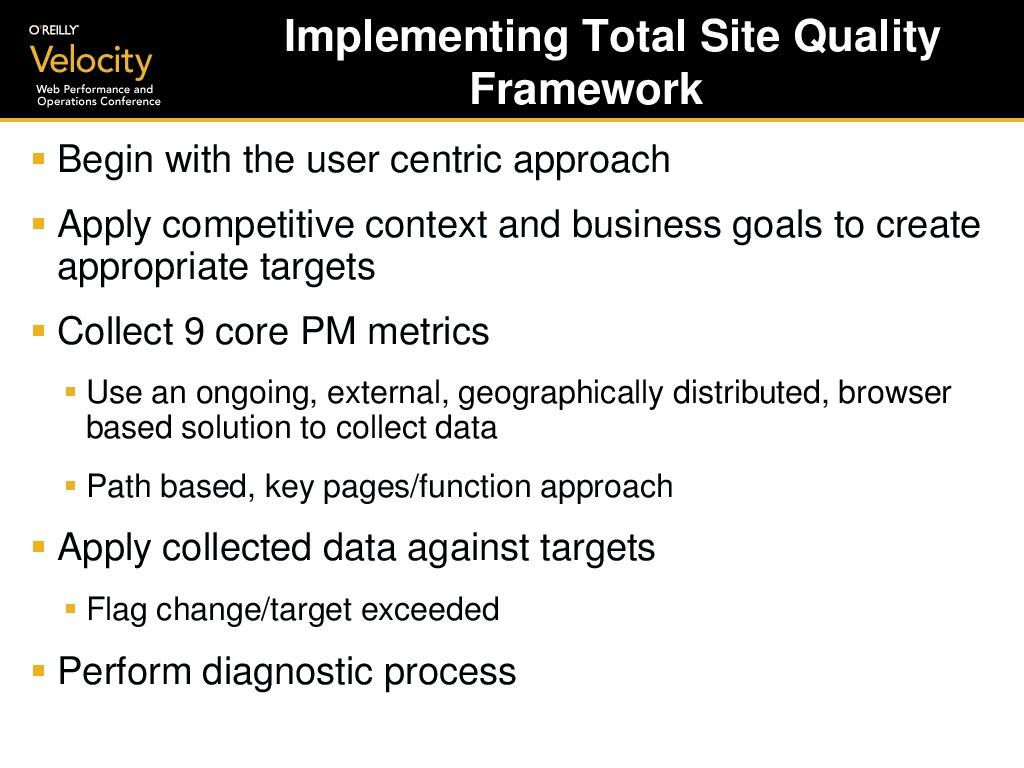paragraph: (18, 126, 1024, 706)
title: (271, 3, 961, 111)
